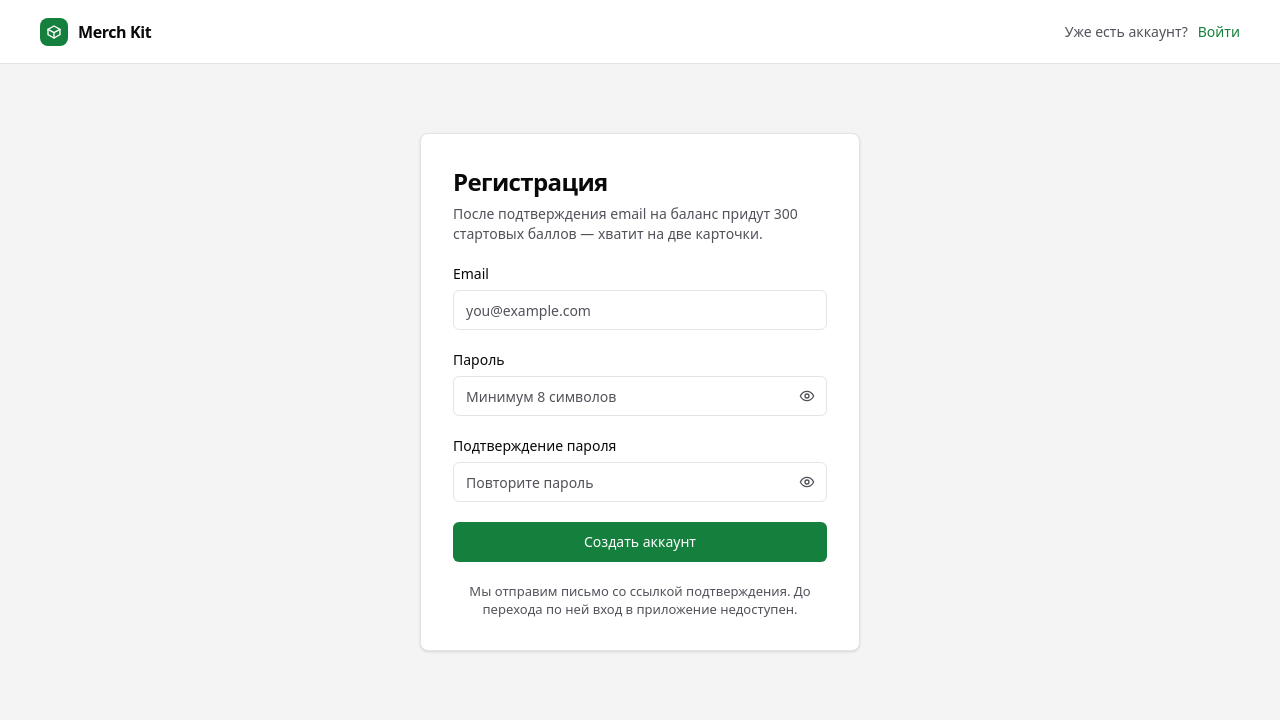
Регистрация (US-02) › показывает занятый email у поля, а не общей ошибкой формы
In the field labelled "Email": (640, 310) [453,290,827,330], type "seller@example.com"
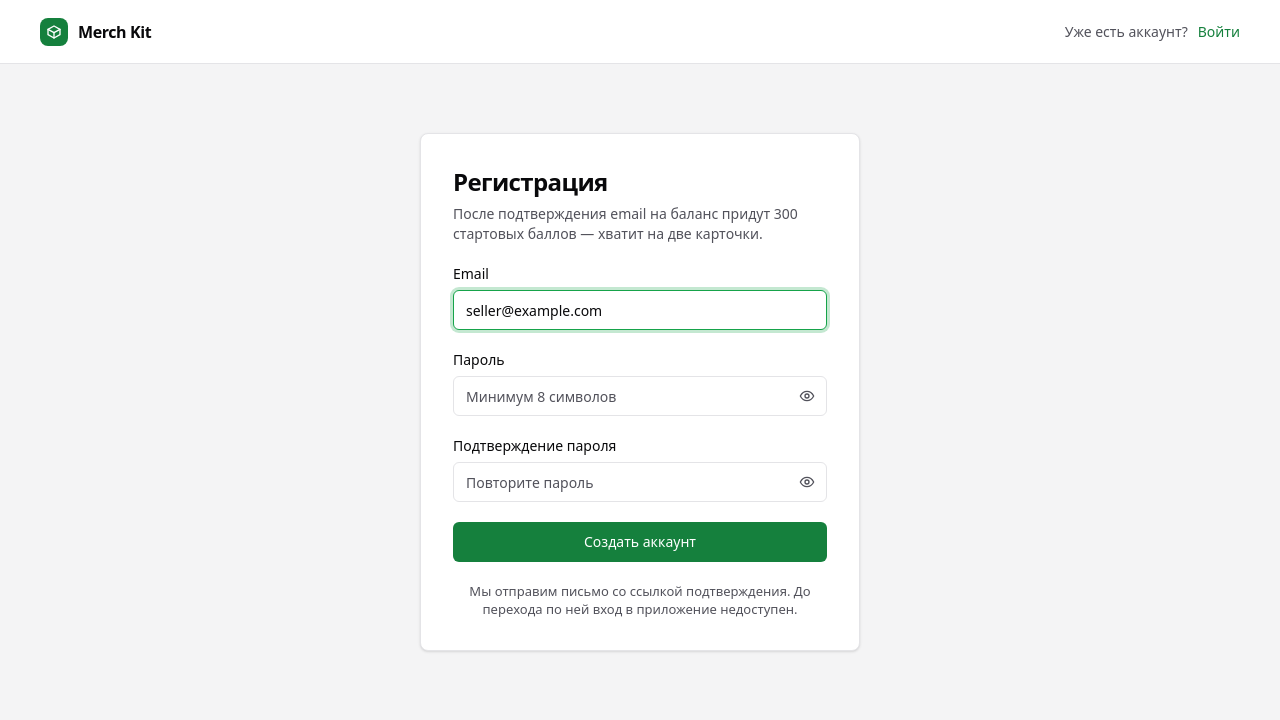
In the password field labelled "Пароль": (640, 396) [453,376,827,416], type "password123"
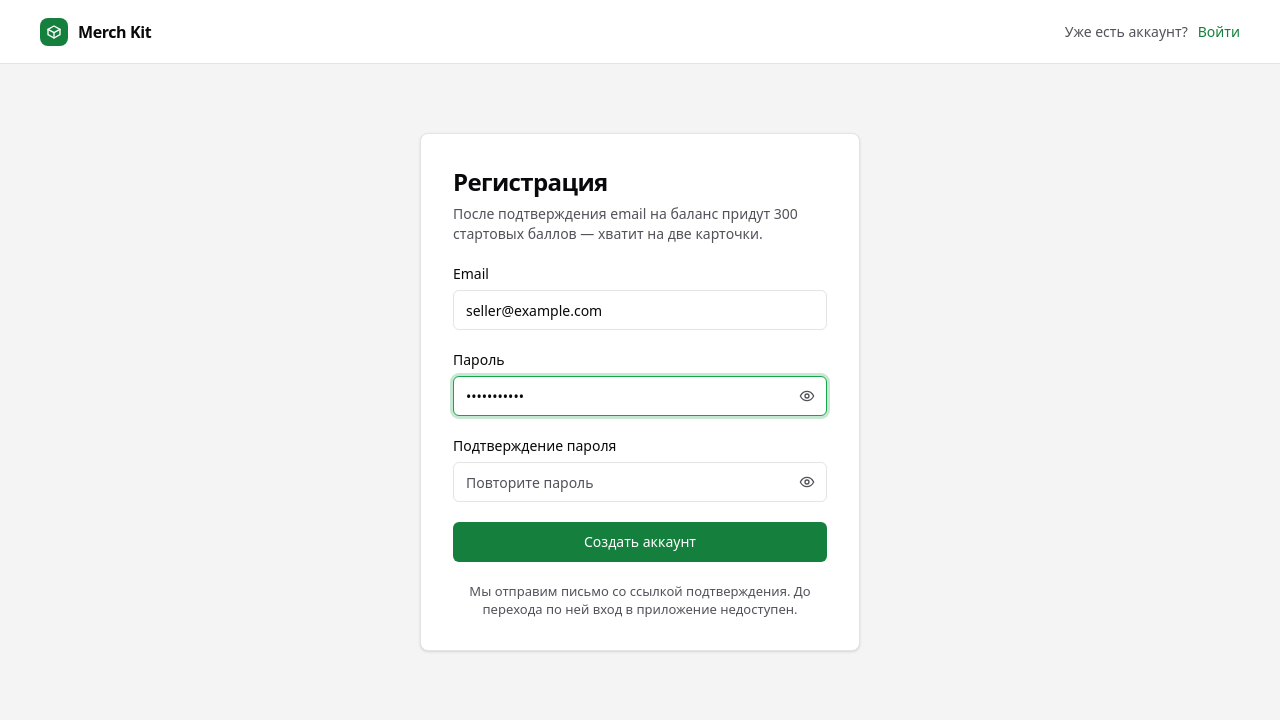
In the password field labelled "Подтверждение пароля": (640, 482) [453,462,827,502], type "password123"
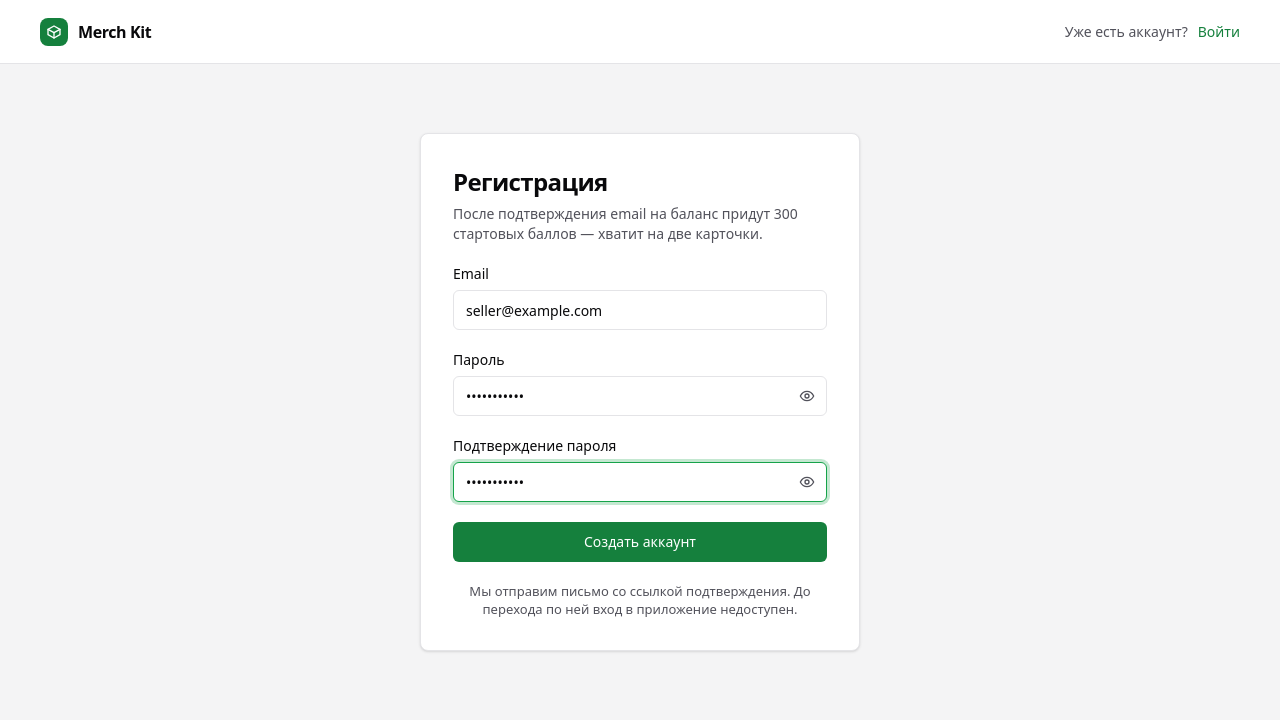
Click the button "Создать аккаунт": (640, 542) [453,522,827,562]
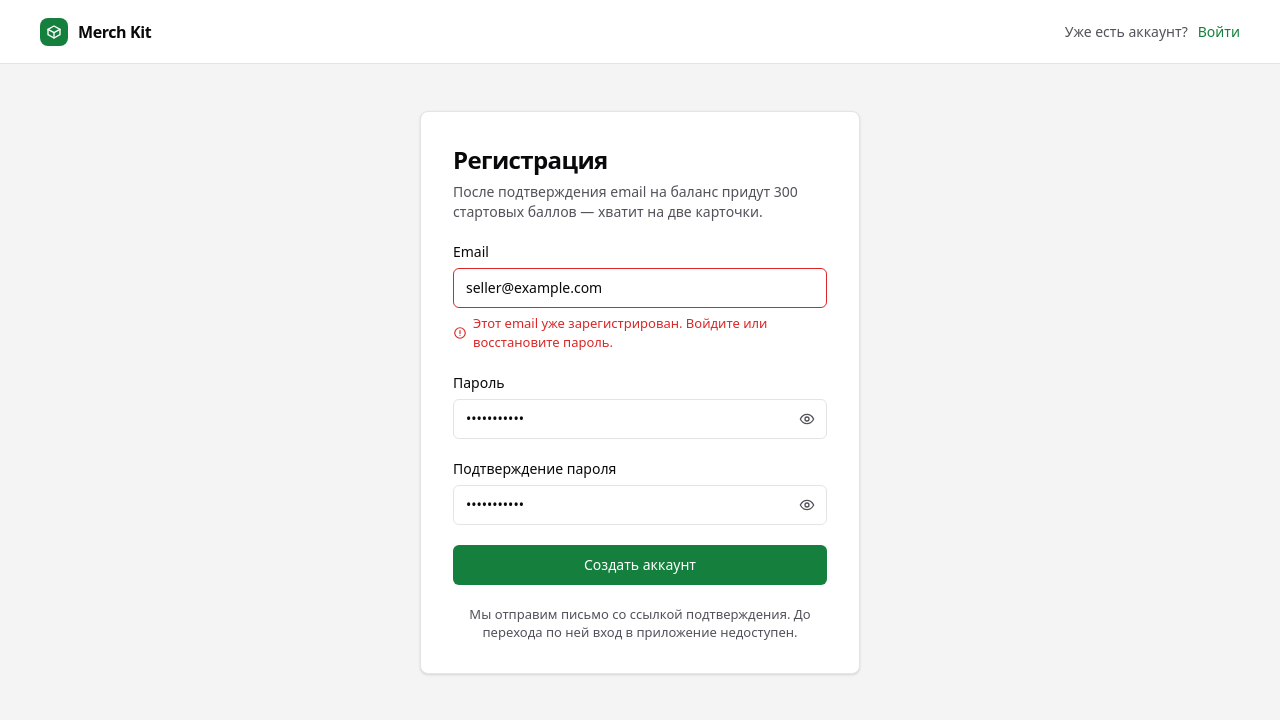
Check: the text "уже зарегистрирован" is shown, box [473,314,767,351]
